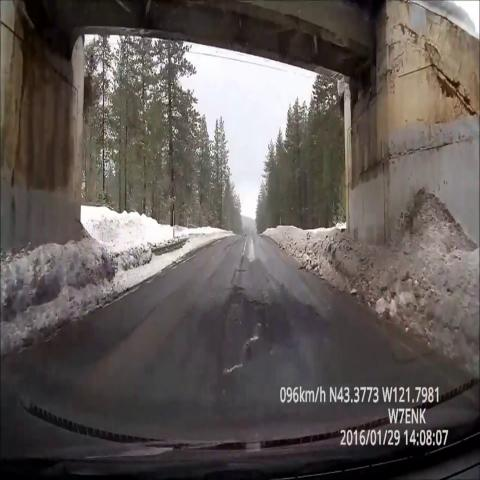pothole: (204, 282, 303, 391)
